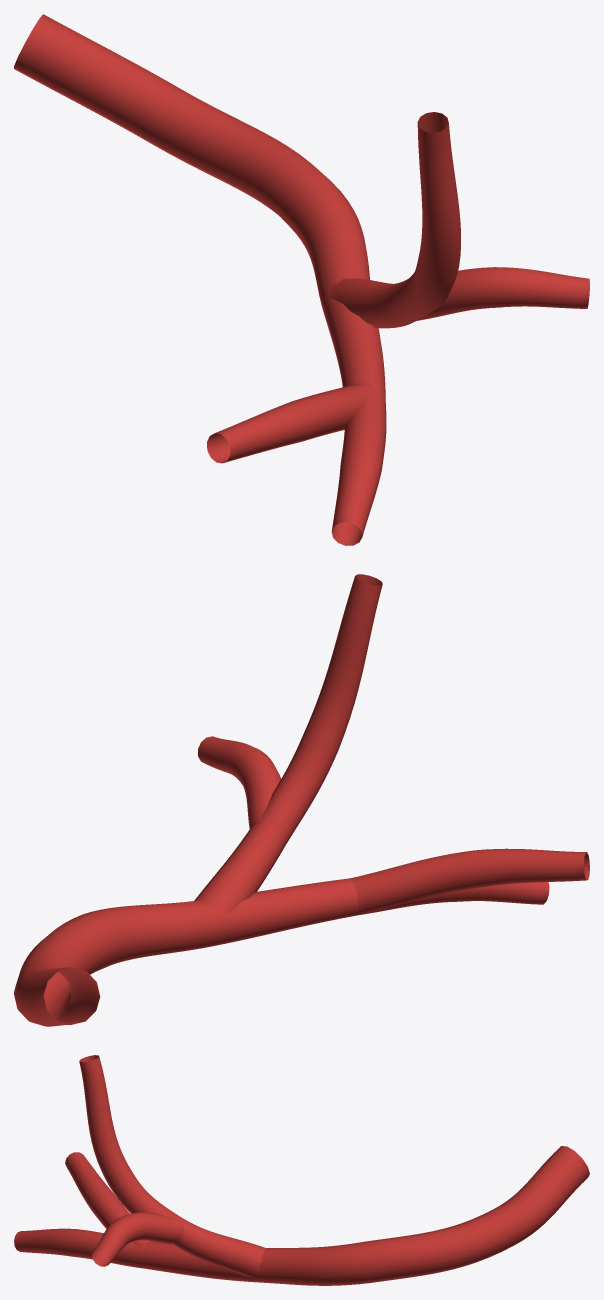
The picture shows the model from 3 angles, top to bottom: view 1: azimuth 30°, elevation 25°; view 2: azimuth 150°, elevation 25°; view 3: azimuth 270°, elevation 25°; orthographic projection. The views are drawn at different scales.
Parts seen in each view (by area): view 1: 左肺尖段动脉; view 2: 左肺尖段动脉; view 3: 左肺尖段动脉.
Boxes of the visible parts, bbox=[...] form: 左肺尖段动脉: bbox=[14, 14, 589, 545]; 左肺尖段动脉: bbox=[14, 574, 589, 1026]; 左肺尖段动脉: bbox=[14, 1055, 589, 1285].
Bounding box in the file's own units: 0.0652 × 0.0558 × 0.1217.
